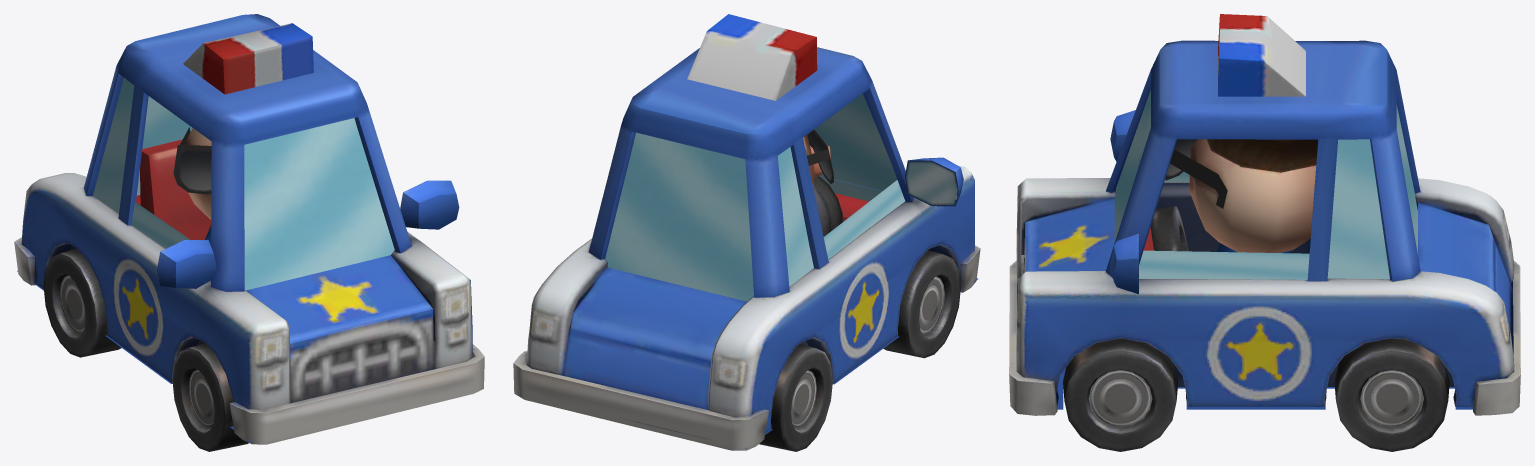
The model's file is 0-auto_police.fbx.
3 views of the same model, side by side, from view 1: azimuth 30°, elevation 25°; view 2: azimuth 150°, elevation 25°; view 3: azimuth 270°, elevation 25° (orthographic). The views are drawn at different scales.
Parts seen in each view (by area): view 1: 0-auto_police; view 2: 0-auto_police; view 3: 0-auto_police.
Boxes of the visible parts, bbox=[...] form: 0-auto_police: bbox=[14, 14, 484, 451]; 0-auto_police: bbox=[513, 14, 980, 451]; 0-auto_police: bbox=[1009, 14, 1520, 451].
Size of the model in its own units: 65.66 by 71.67 by 93.
